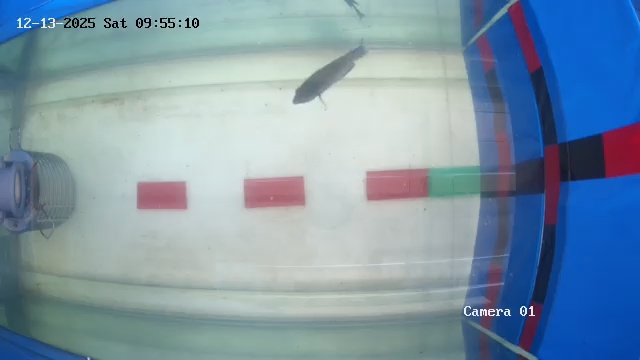fish: (286, 38, 369, 119)
